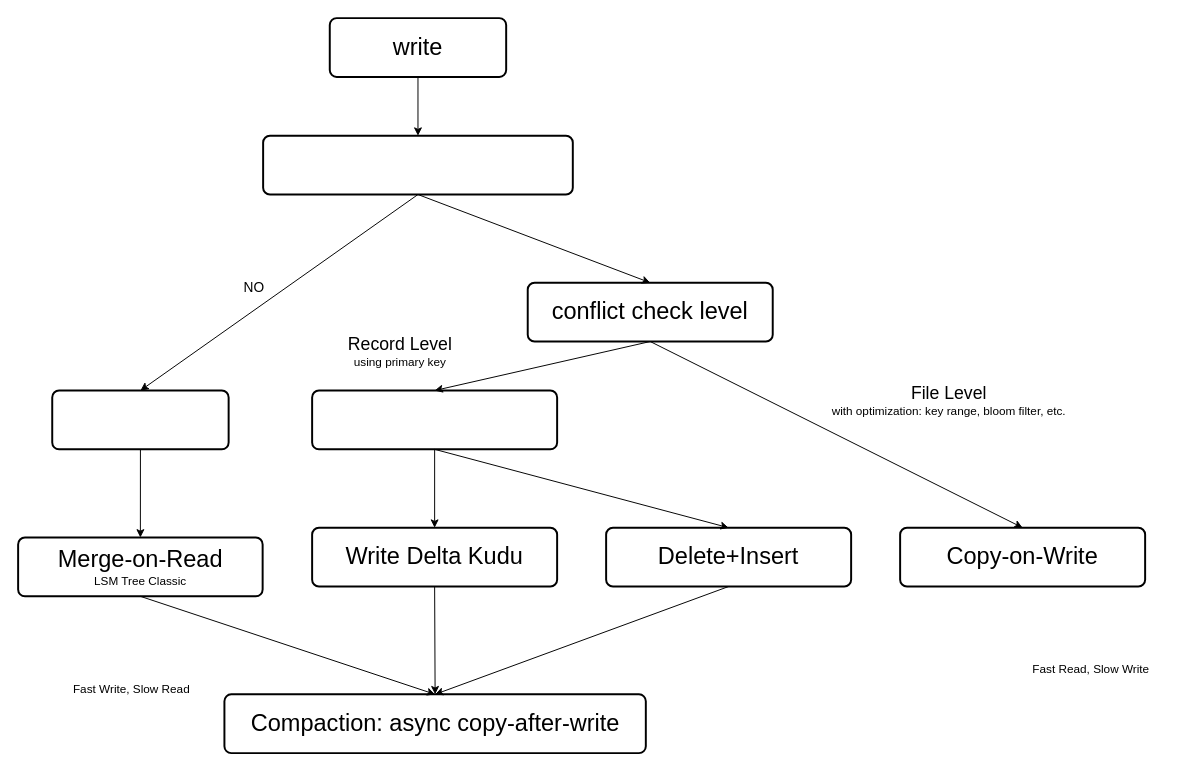
The diagram is 1201 pixels wide and 770 high, and some of its shapes have lost their labels. Each missing label, with the centre of its shape:
"append" belongs at (140,419).
"find records of same key" belongs at (417,164).
"update apply method" belongs at (434,419).
